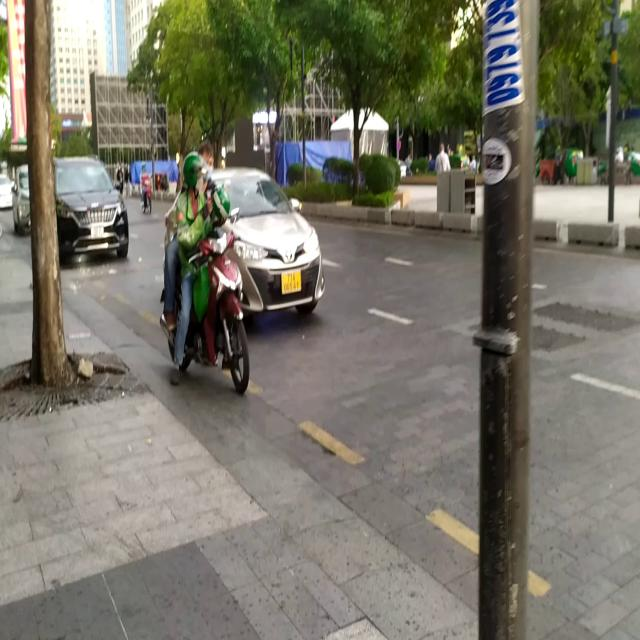bien_vang: (280, 270, 303, 294)
